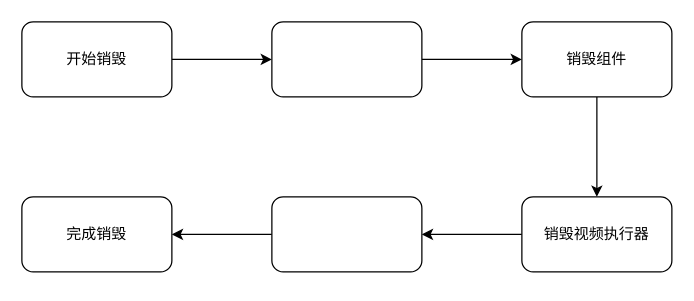
The diagram is 694 pixels wide and 301 high, and some of its shapes have lost their labels. Here are the shapes that lost their labels. From the top down, the centre of each, then its label:
pixel 346 59: 销毁插件
pixel 346 234: 销毁DOM布局
